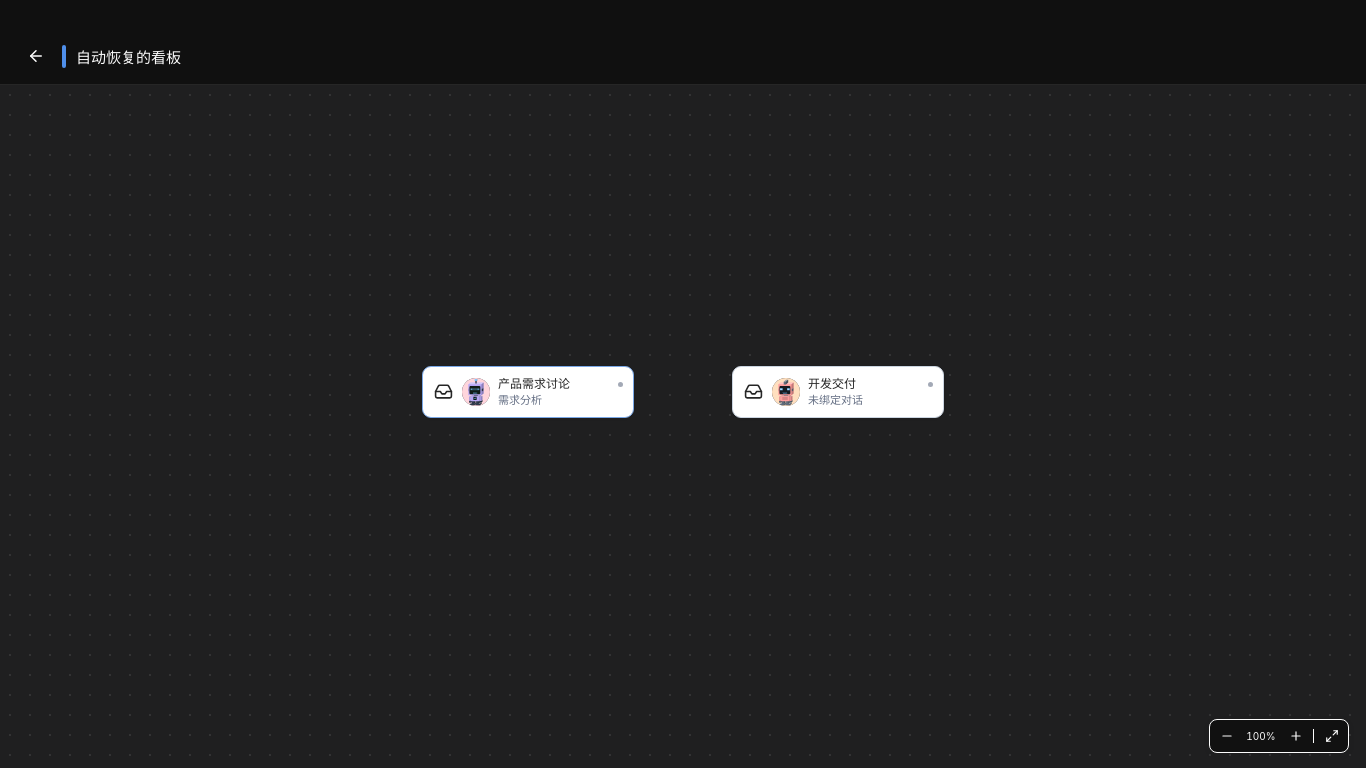
Test: global organization management › automatically retries a background read failure while leaving the current board available
The image size is (1366, 768).
Expected: the button with aria-label "双击打开对话 · 产品需求讨论" is shown, 422,366 -> 634,418
What coordinates should you click on to do the following:
click the button named "返回组织"
I would click on:
 (36, 56)
Its box is 20,40 -> 52,72.
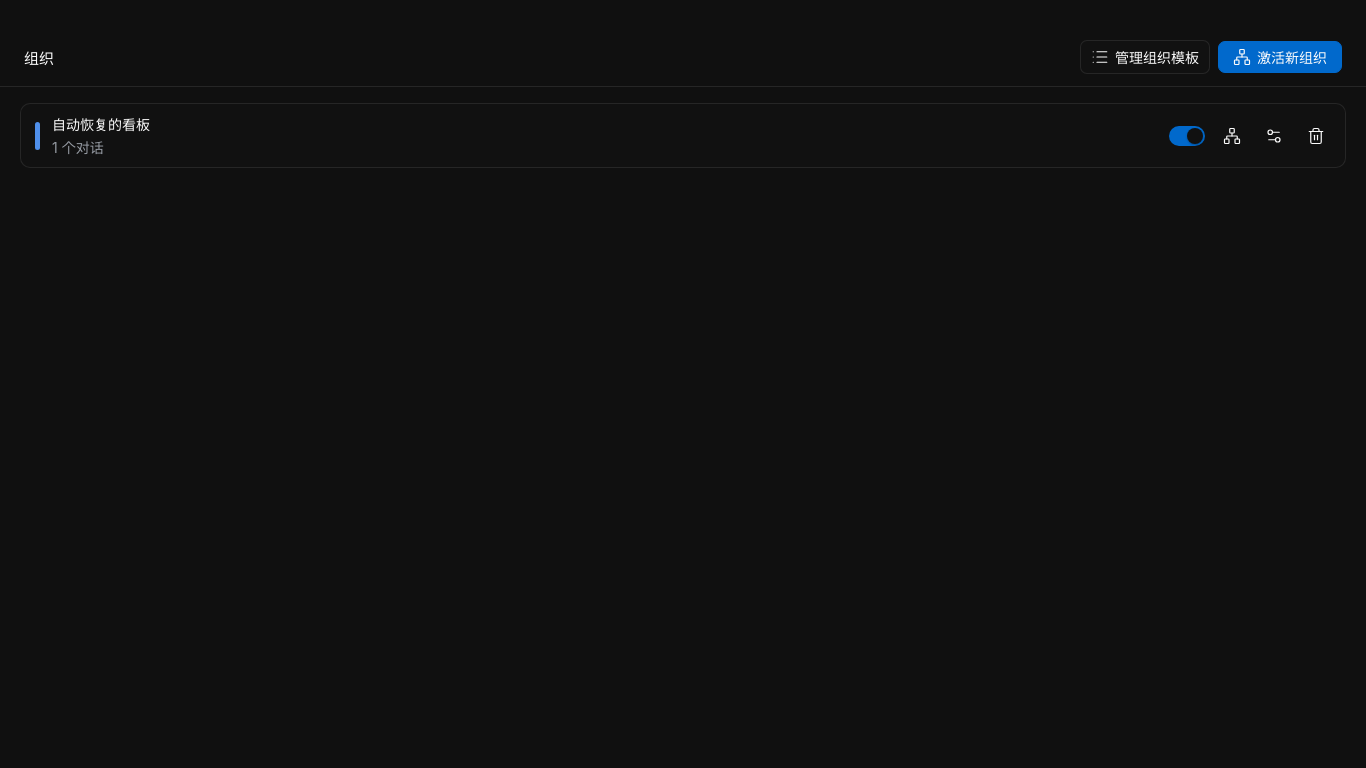
Expected: the button named "组织看板 自动恢复的看板" is shown, 1217,120 -> 1247,152
